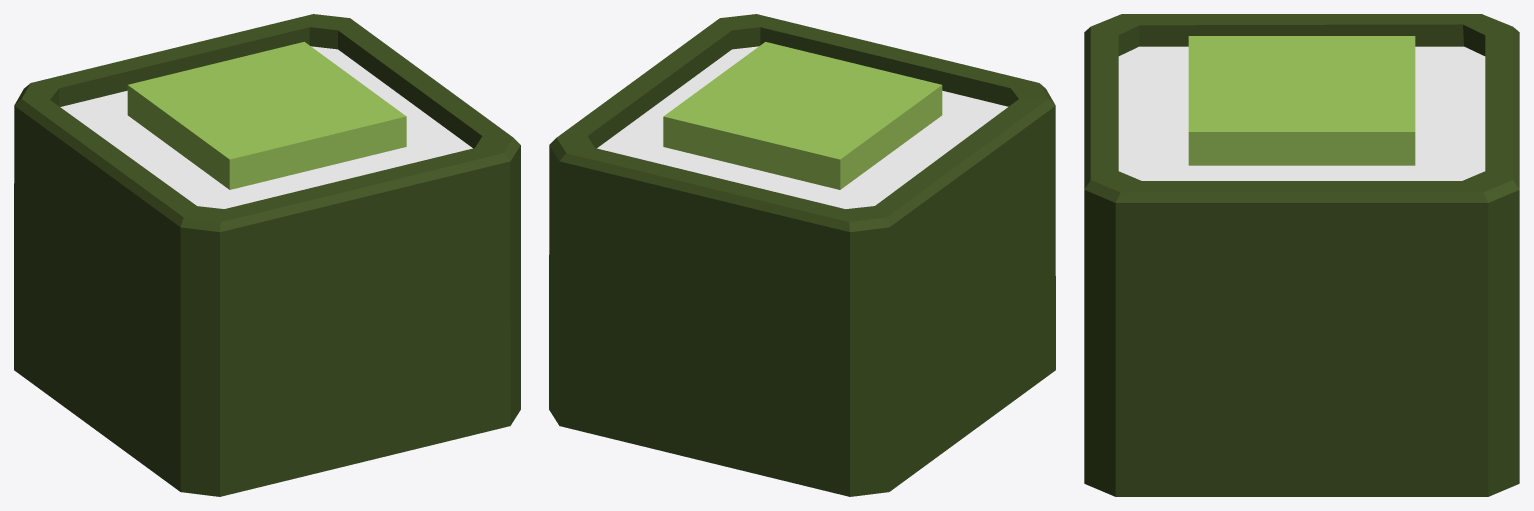
Rendered from Sushi_1.fbx.
The picture shows the model from 3 angles, left to right: view 1: azimuth 30°, elevation 25°; view 2: azimuth 150°, elevation 25°; view 3: azimuth 270°, elevation 25°; orthographic projection. The views are drawn at different scales.
Visible parts, largest first — view 1: Sushi_1; view 2: Sushi_1; view 3: Sushi_1.
Part boxes in pixels (left/top/right/bottom): Sushi_1: left=14, top=14, right=520, bottom=496; Sushi_1: left=549, top=14, right=1055, bottom=496; Sushi_1: left=1084, top=14, right=1519, bottom=496.
Bounding box in the file's own units: 10.96 × 8.91 × 10.96.
